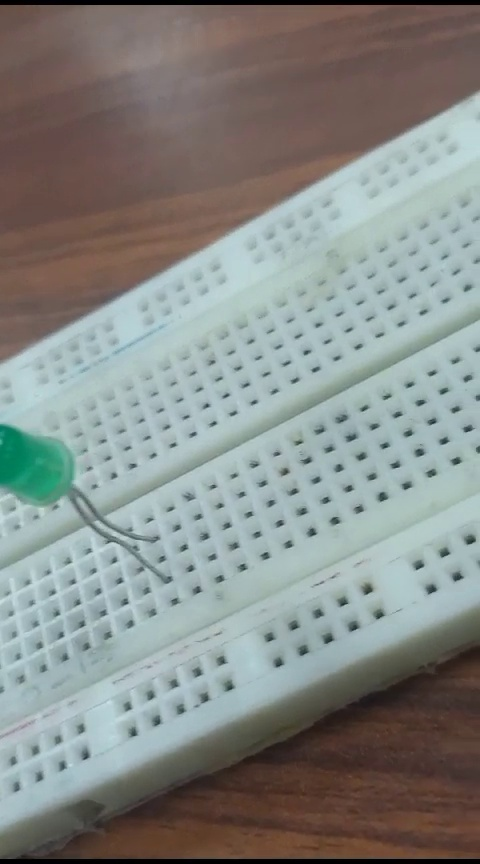LED: (2, 412, 184, 599)
